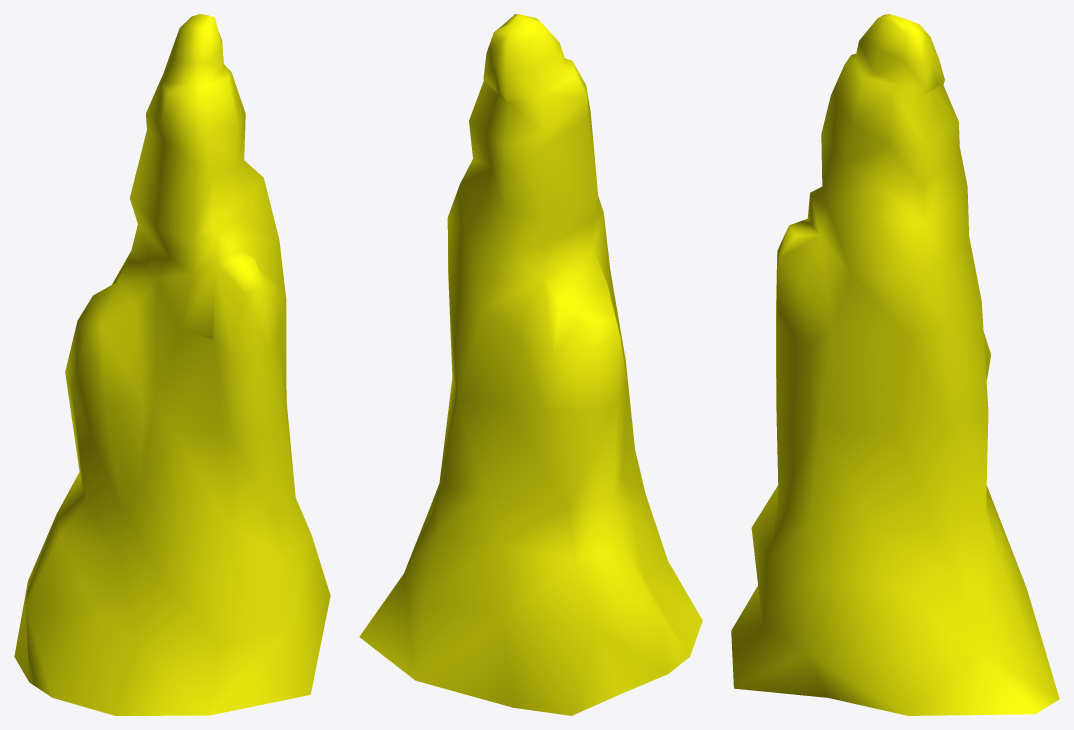
Rendered from rock_pillar_03.glb.
3 views of the same model, side by side, from view 1: azimuth 30°, elevation 25°; view 2: azimuth 150°, elevation 25°; view 3: azimuth 270°, elevation 25° (orthographic). The views are drawn at different scales.
Parts seen in each view (by area): view 1: rock_pillar_03; view 2: rock_pillar_03; view 3: rock_pillar_03.
Boxes of the visible parts, <box> form: rock_pillar_03: <box>14,14,330,715</box>; rock_pillar_03: <box>359,14,702,715</box>; rock_pillar_03: <box>731,14,1059,715</box>.
Size of the model in its own units: 26.8 by 60.34 by 26.12.
1 material, 1 textured.
